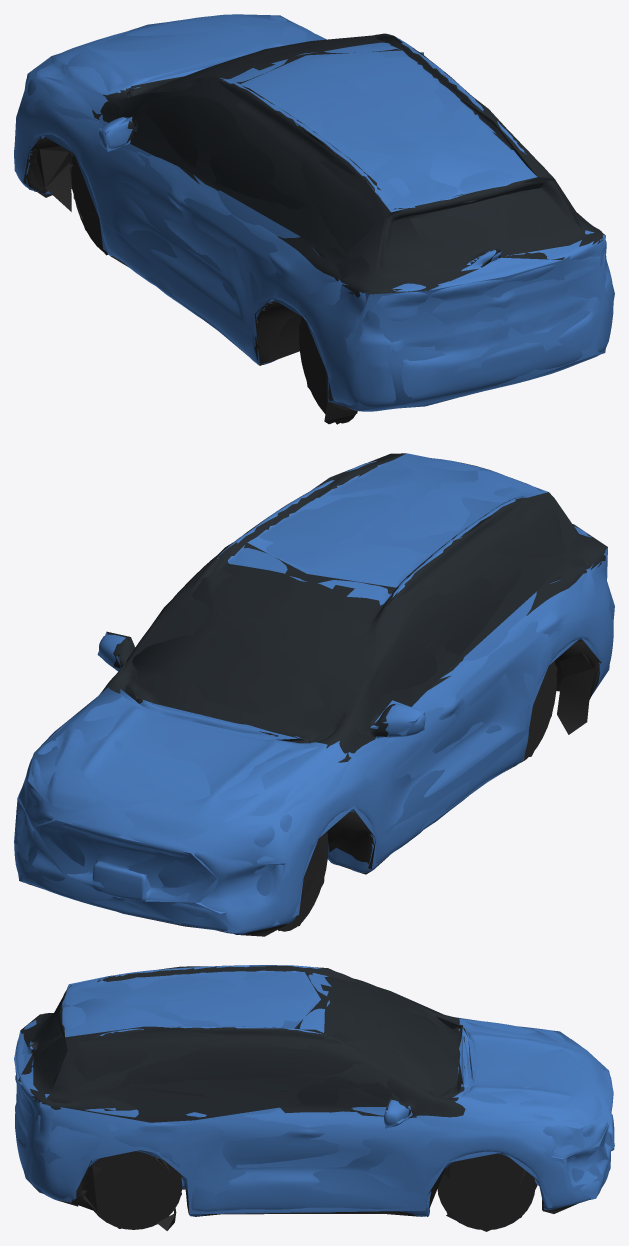
Rendered from ford-escape.glb.
The picture shows the model from 3 angles, top to bottom: view 1: azimuth 30°, elevation 25°; view 2: azimuth 150°, elevation 25°; view 3: azimuth 270°, elevation 25°; orthographic projection. The views are drawn at different scales.
Visible parts, largest first — view 1: body, far; view 2: body, far; view 3: body, far.
Part boxes in pixels (left/top/right/bottom): body: left=14, top=14, right=613, bottom=424; far: left=14, top=14, right=614, bottom=424; body: left=14, top=457, right=613, bottom=936; far: left=14, top=453, right=614, bottom=933; body: left=15, top=965, right=614, bottom=1230; far: left=14, top=965, right=614, bottom=1231.
Size of the model in its own units: 2.22 by 1.7 by 4.64.
